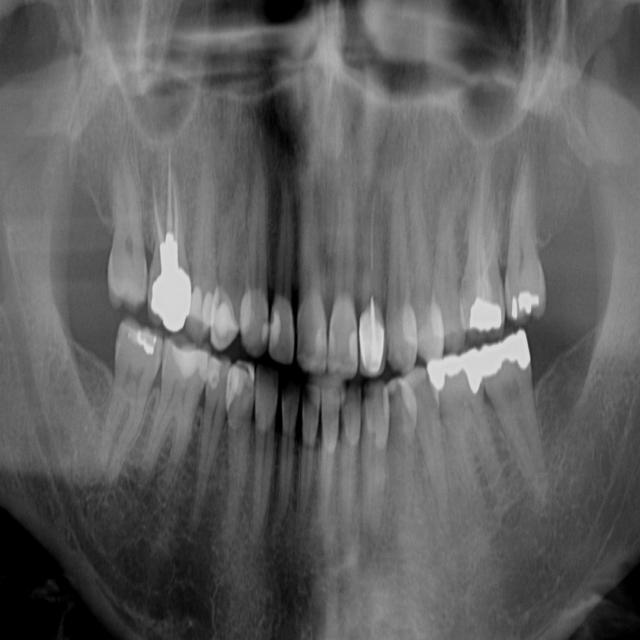dentin-curugu: (341, 383, 368, 418), (300, 386, 318, 415)
dolgu: (205, 291, 242, 355), (461, 290, 506, 336), (119, 317, 161, 364), (167, 344, 209, 388), (221, 363, 256, 409), (504, 285, 546, 323), (261, 298, 283, 357)
kanal-tedavisi: (143, 136, 195, 268), (462, 230, 498, 291), (364, 194, 379, 281)
kaplama: (424, 352, 485, 400), (482, 328, 534, 382), (148, 272, 195, 328), (355, 298, 387, 377)
